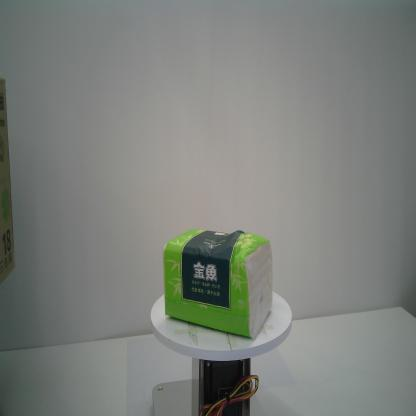Tissue: (162, 229, 274, 338)
